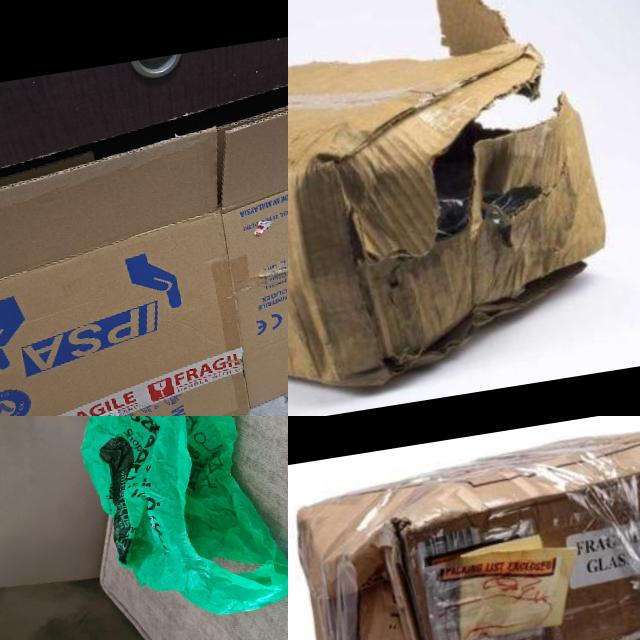papelão: (288, 0, 626, 416), (0, 58, 288, 416), (288, 416, 640, 640)
sacola plástica: (51, 416, 288, 631)
